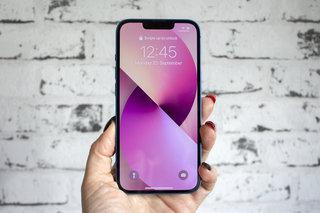0: (76, 91, 217, 213)
Smartphone: (115, 18, 202, 195)
